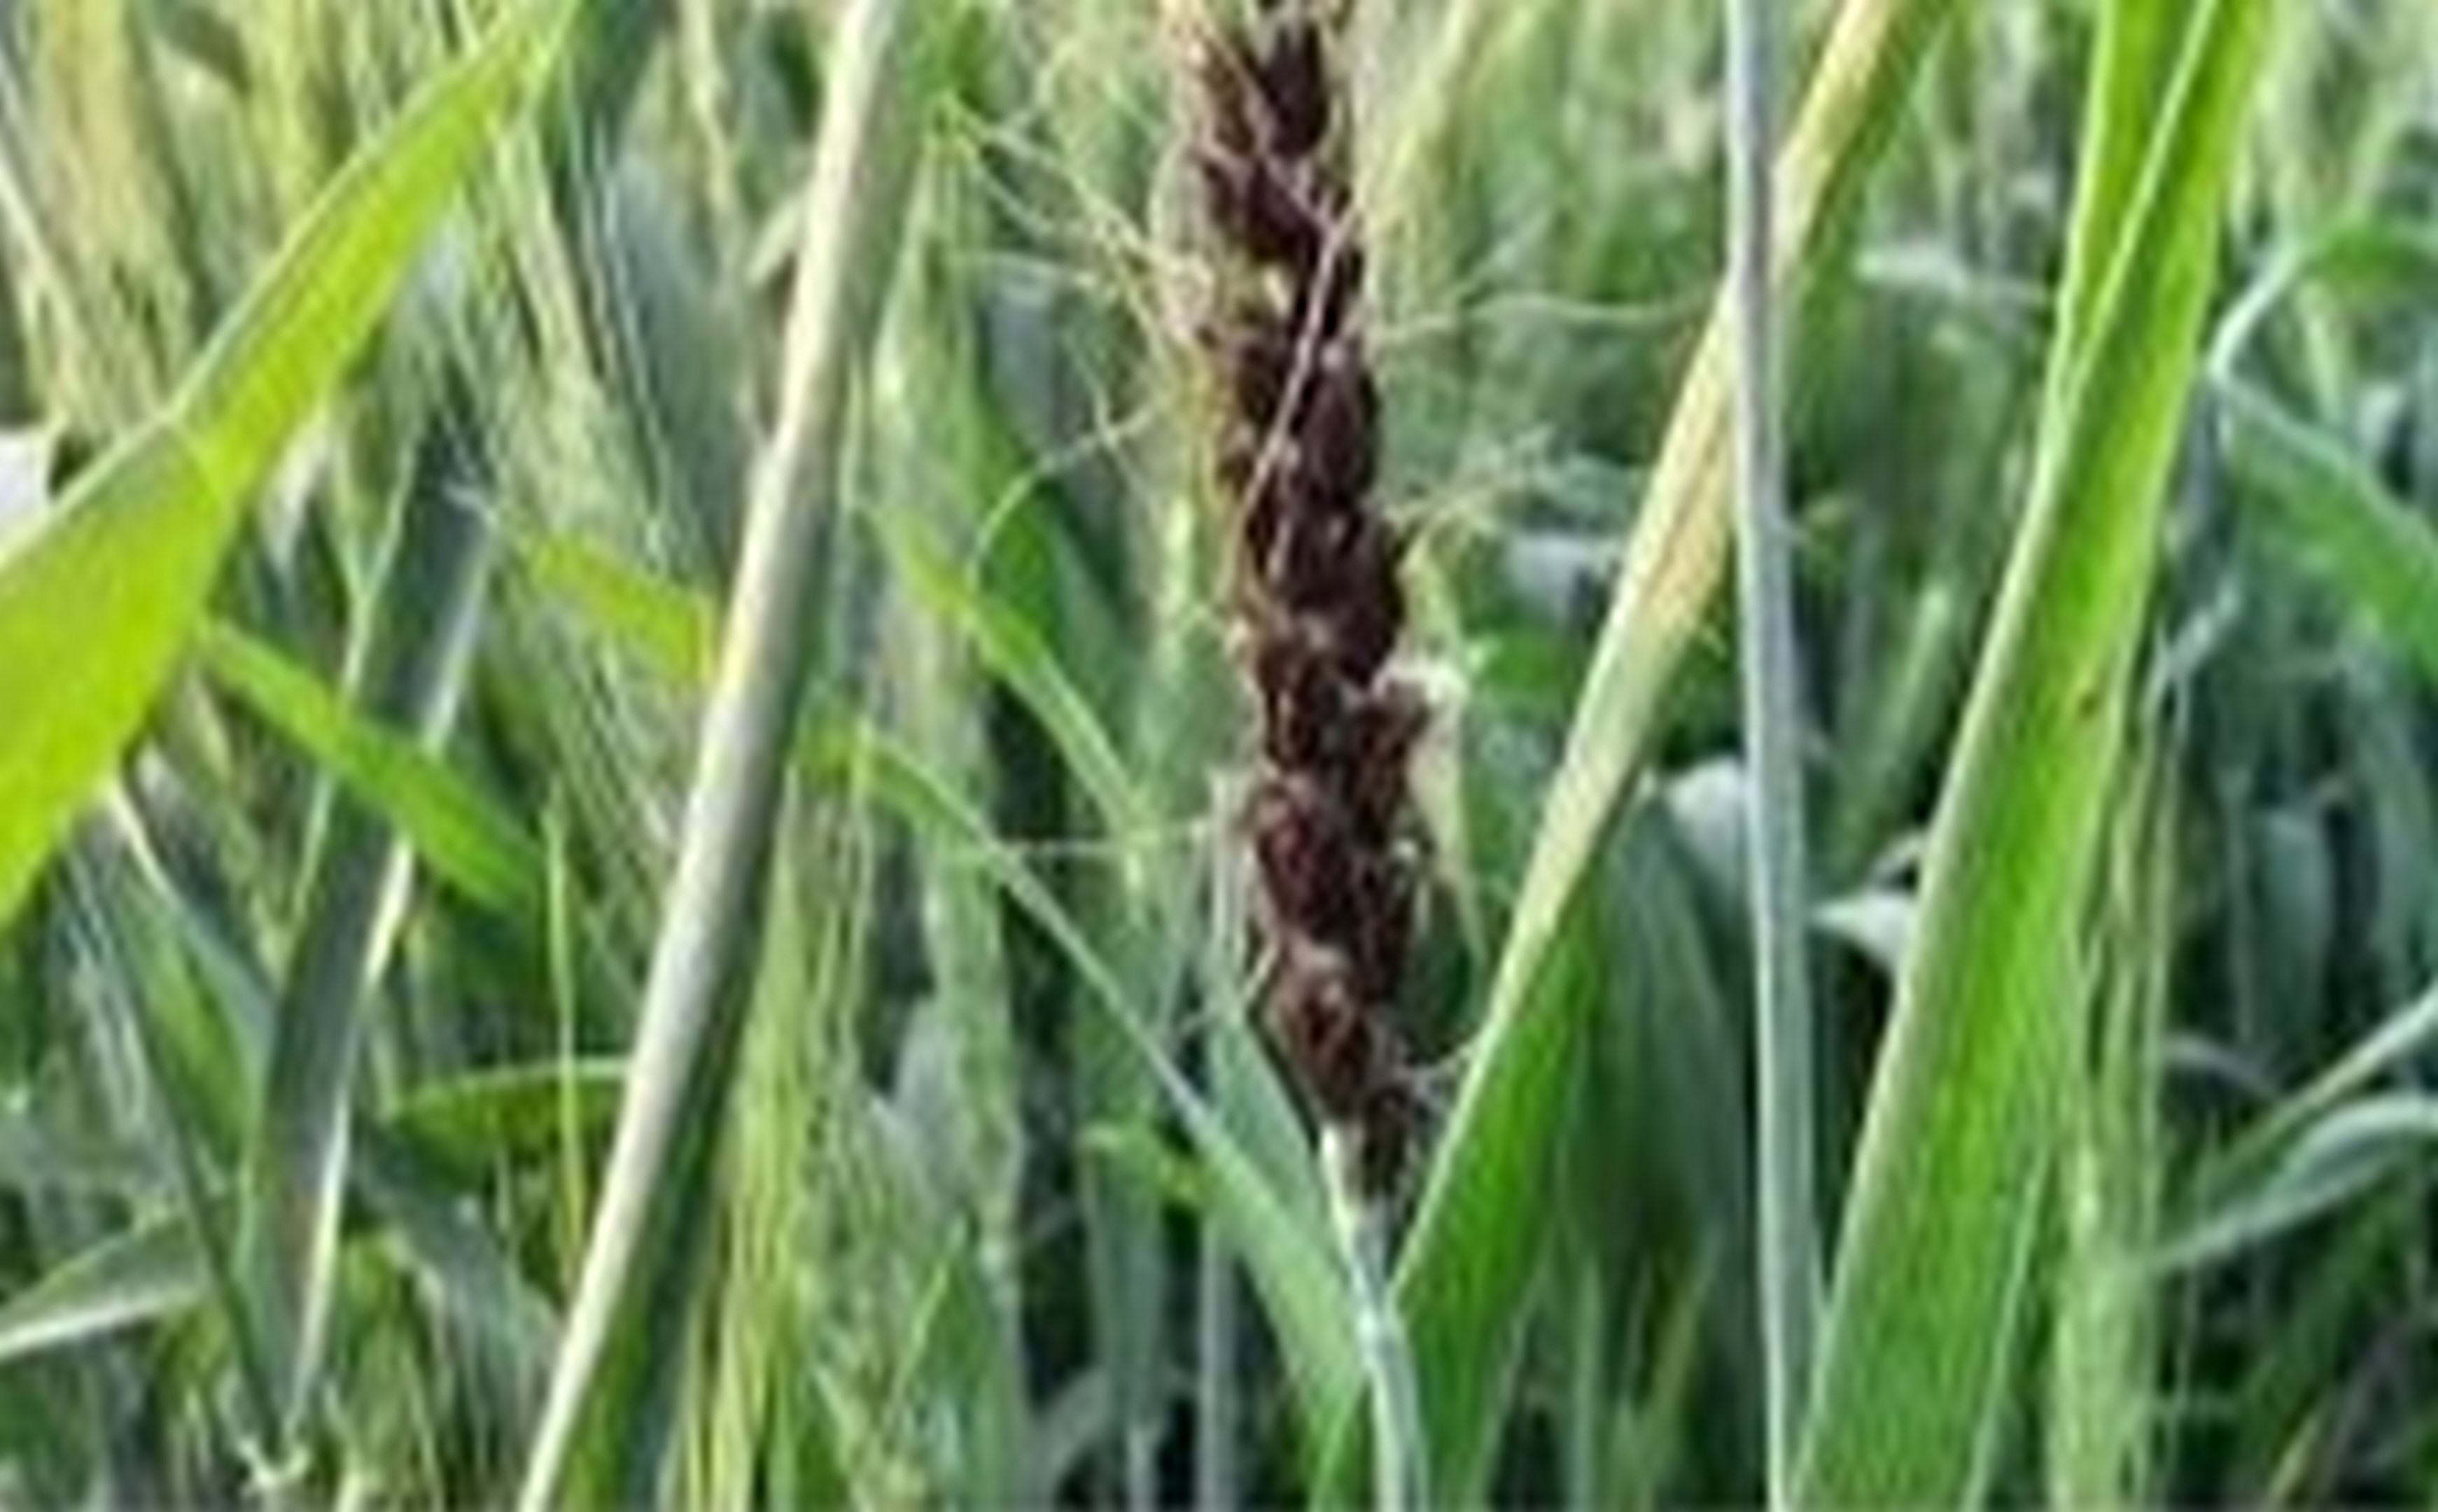Wheat Loose Smut: (1146, 35, 1517, 1070)
